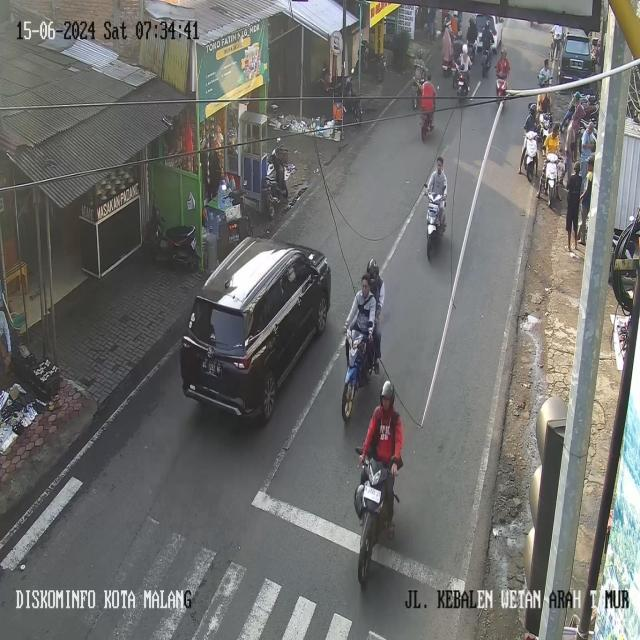Helmet: (380, 380, 394, 405), (367, 258, 378, 278), (529, 104, 537, 115), (573, 92, 581, 100), (462, 43, 467, 54), (501, 49, 506, 56)
Number Plate: (364, 485, 380, 503), (203, 359, 220, 375)
